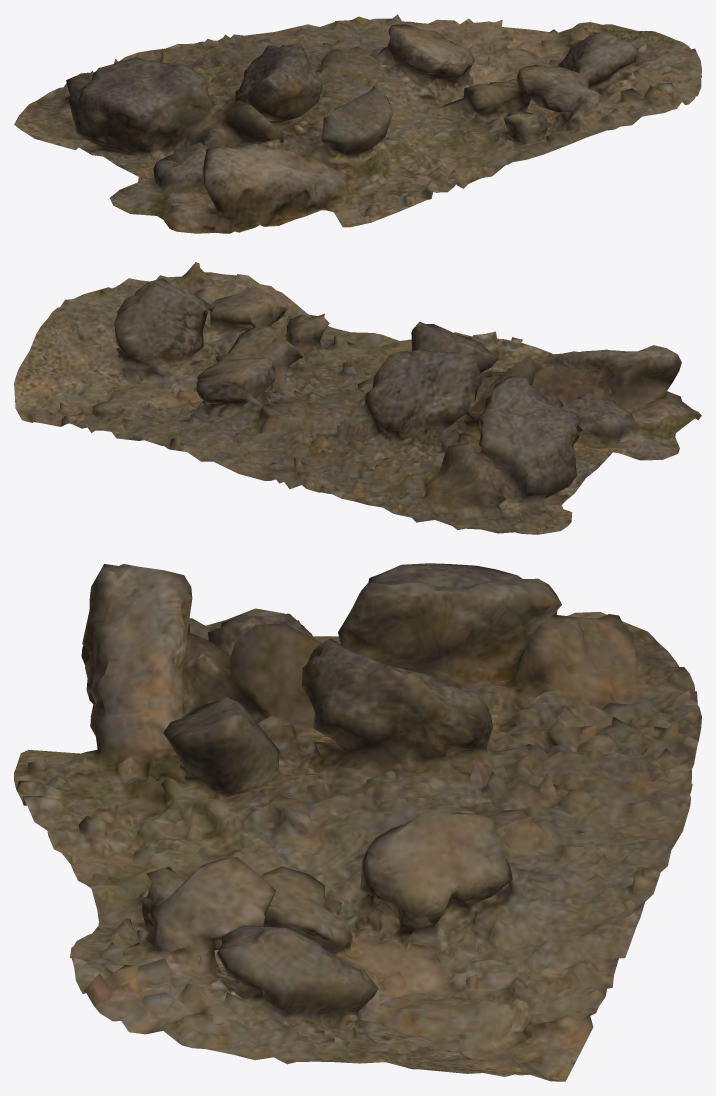
Rendered from coast_land_rocks_03.glb.
3 renders of one model, top to bottom at view 1: azimuth 30°, elevation 25°; view 2: azimuth 150°, elevation 25°; view 3: azimuth 270°, elevation 25°, orthographic. The views are drawn at different scales.
Visible parts, largest first — view 1: coast_land_rocks_03_lo; view 2: coast_land_rocks_03_lo; view 3: coast_land_rocks_03_lo.
Part boxes in pixels (x1=…): coast_land_rocks_03_lo: x1=14, y1=14, x2=701, y2=233; coast_land_rocks_03_lo: x1=14, y1=262, x2=701, y2=534; coast_land_rocks_03_lo: x1=14, y1=563, x2=701, y2=1081.
Size of the model in its own units: 8.98 by 1.51 by 5.62.
1 material, 1 textured.
